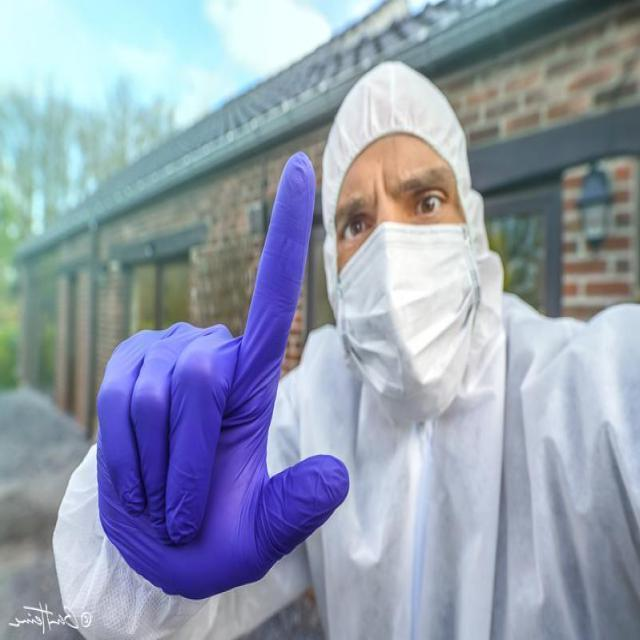gloves: (94, 148, 351, 604)
